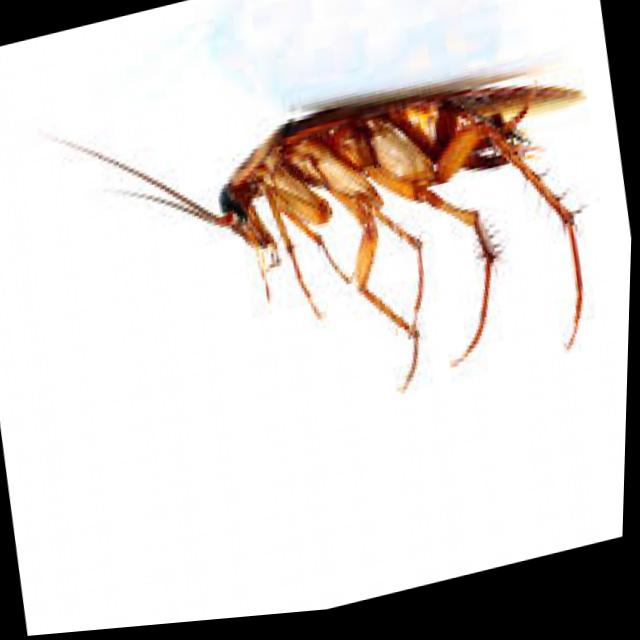Cockroach: (26, 1, 633, 488)
